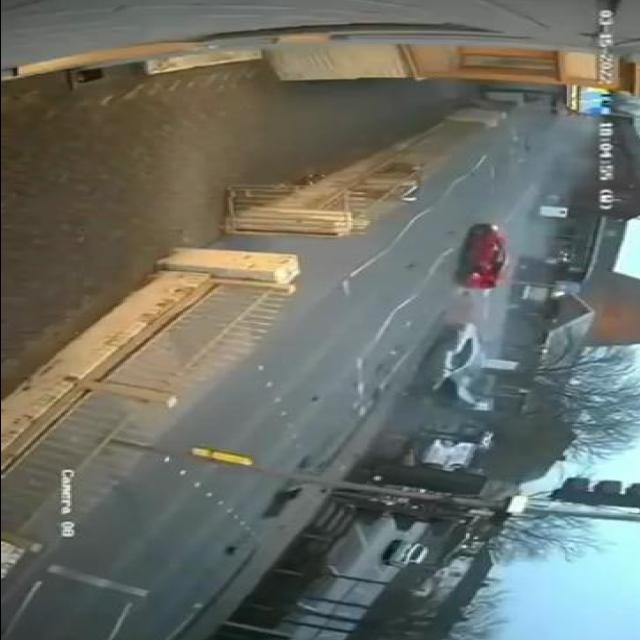accident: (406, 316, 502, 413), (446, 216, 526, 291)
